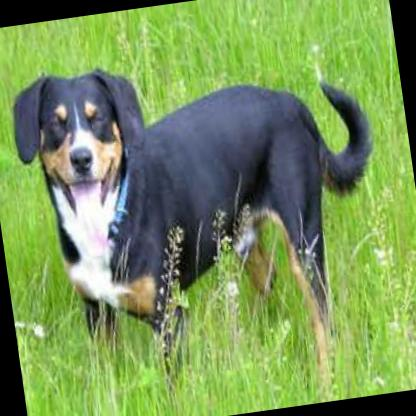EntleBucher: (4, 29, 406, 416)
